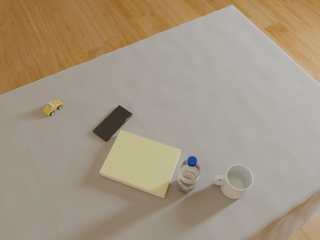book: (100, 130, 181, 198)
bottle: (177, 156, 201, 193)
cup: (213, 165, 253, 199)
phone: (93, 105, 132, 141)
toy_car: (43, 99, 63, 116)
